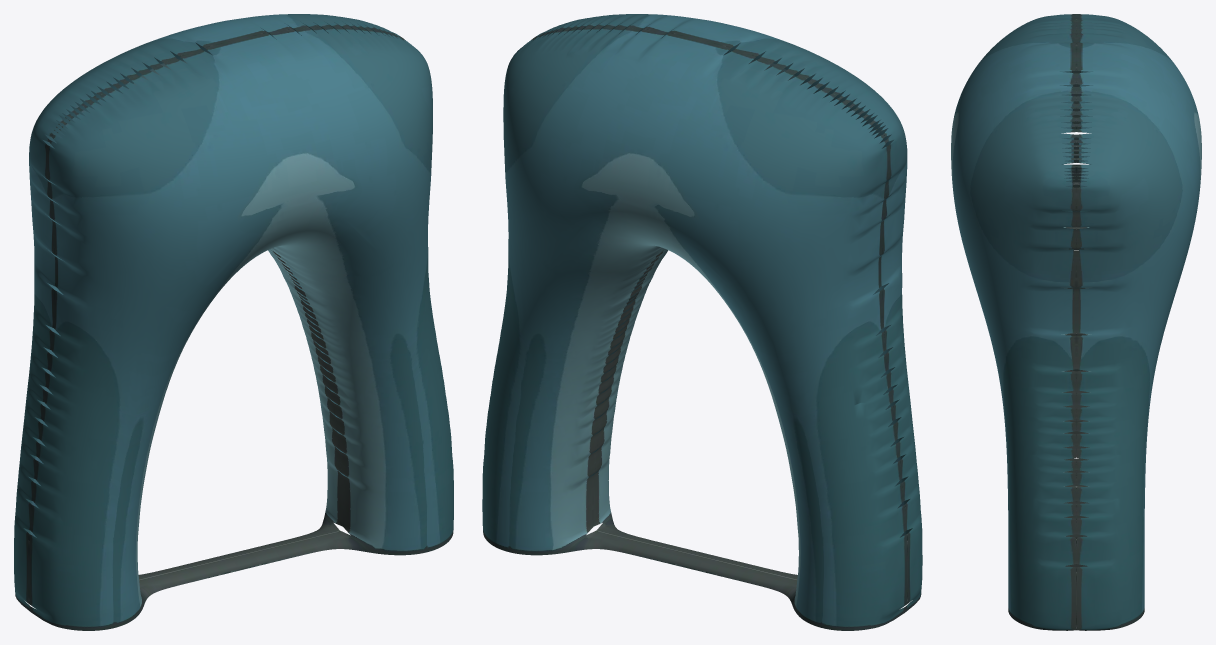
Rendered from window_wall.glb.
The picture shows the model from 3 angles, left to right: view 1: azimuth 30°, elevation 25°; view 2: azimuth 150°, elevation 25°; view 3: azimuth 270°, elevation 25°; orthographic projection. The views are drawn at different scales.
Parts seen in each view (by area): view 1: window_wall; view 2: window_wall; view 3: window_wall.
Boxes of the visible parts, bbox=[...] form: window_wall: bbox=[14, 14, 453, 630]; window_wall: bbox=[482, 14, 922, 630]; window_wall: bbox=[951, 14, 1201, 630].
Bounding box in the file's own units: 0.9866 × 1.2 × 0.5649.
1 material, 1 textured.
